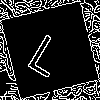L: (25, 25, 73, 79)
